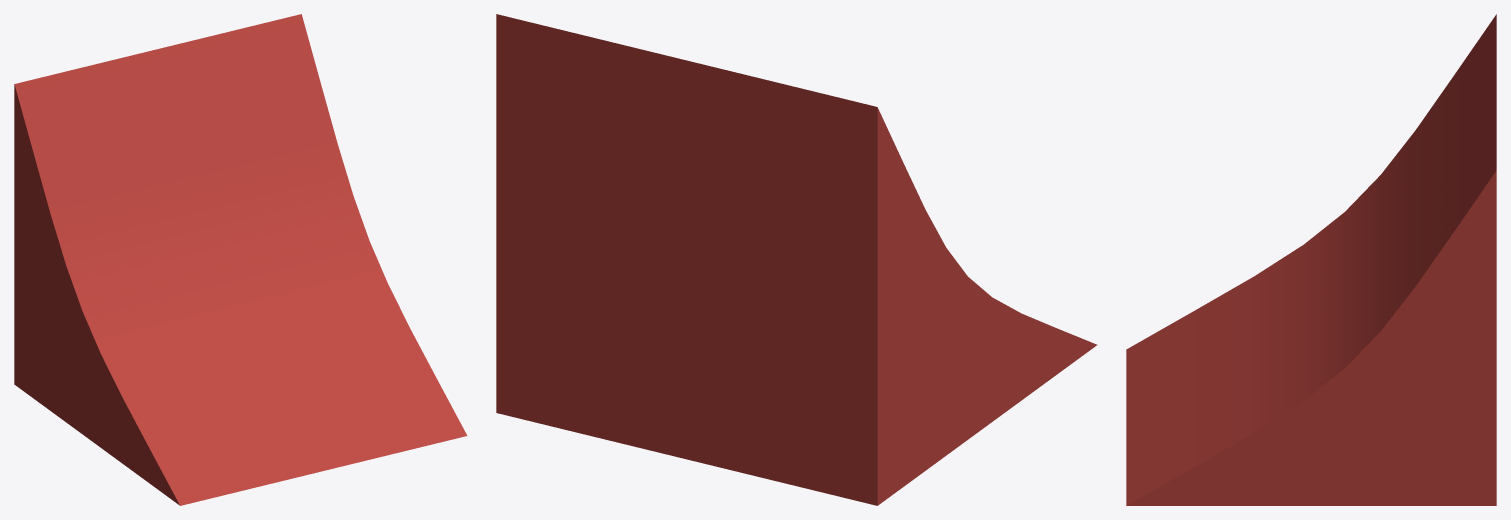
The model's file is gusset.glb.
The picture shows the model from 3 angles, left to right: view 1: azimuth 30°, elevation 25°; view 2: azimuth 150°, elevation 25°; view 3: azimuth 270°, elevation 25°; orthographic projection. The views are drawn at different scales.
Visible parts, largest first — view 1: gusset; view 2: gusset; view 3: gusset.
Part boxes in pixels (x1,y1,x2,y2): gusset: (14,14,467,505); gusset: (496,14,1097,505); gusset: (1126,14,1496,505).
Bounding box in the file's own units: 1 × 1 × 1.
